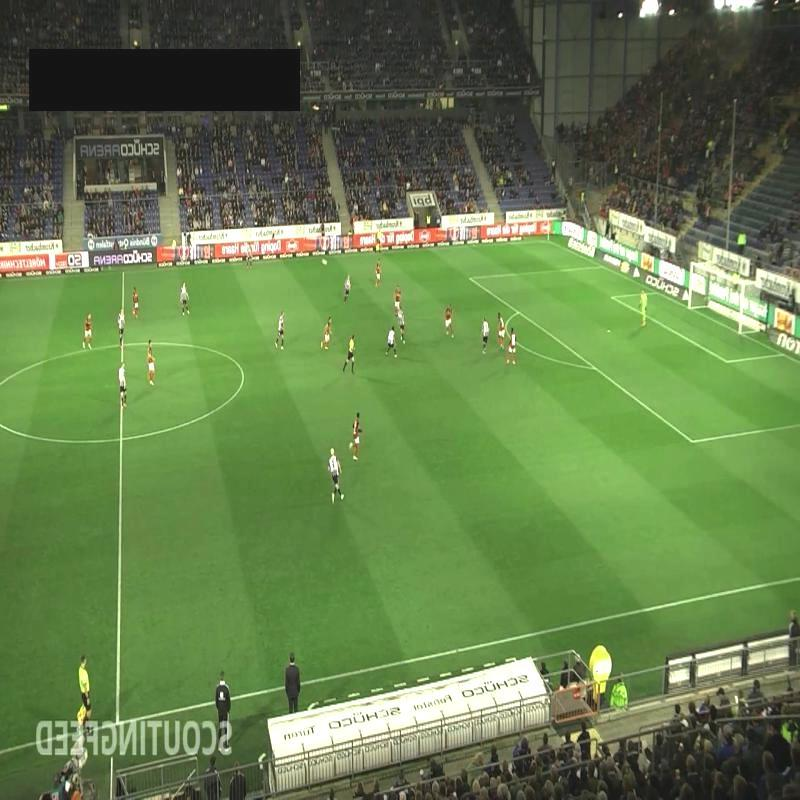1: (541, 234, 555, 248)
10: (512, 306, 526, 320)
11: (588, 360, 602, 374)
12: (686, 434, 700, 449)
13: (116, 264, 131, 278)
14: (116, 338, 130, 351)
15: (114, 430, 128, 446)
16: (105, 708, 133, 739)
2: (596, 260, 610, 274)
3: (652, 286, 666, 299)
4: (778, 348, 792, 362)
7: (605, 290, 619, 304)
8: (719, 355, 733, 369)
9: (464, 270, 478, 284)
c: (237, 367, 250, 381)
